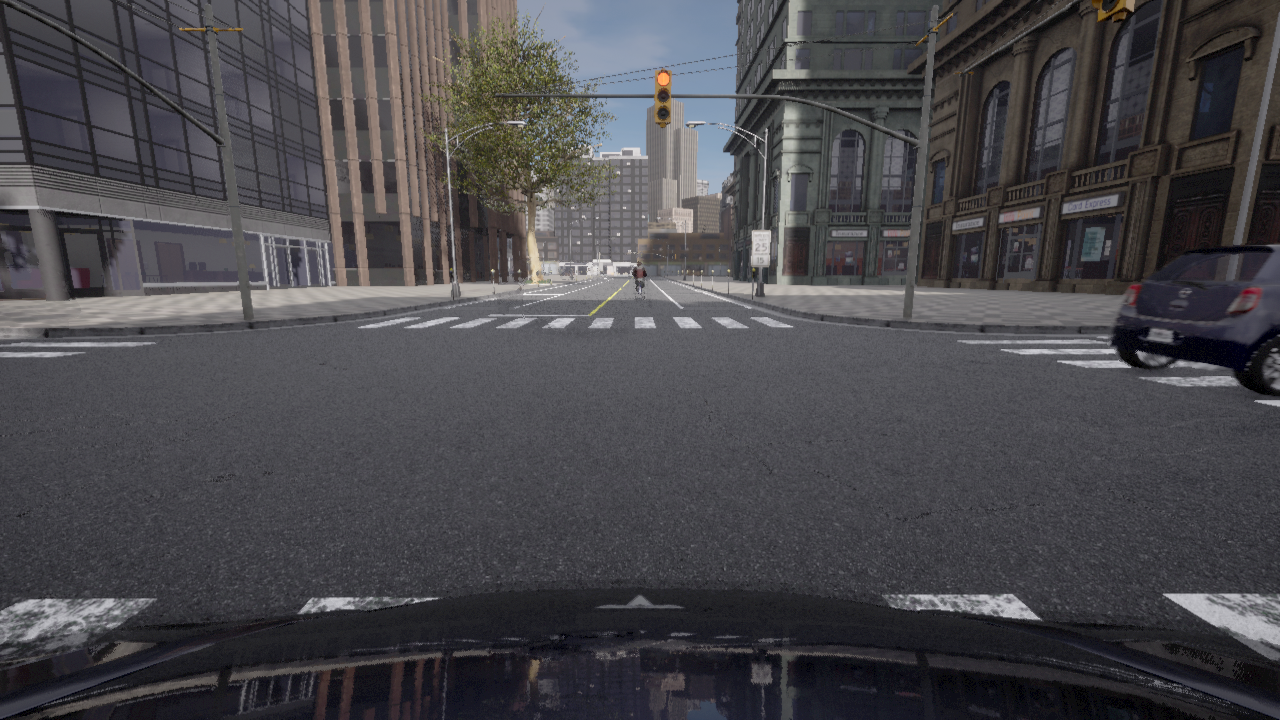cyclist: (0, 588, 1279, 719), (1109, 244, 1279, 396), (637, 284, 643, 296)
